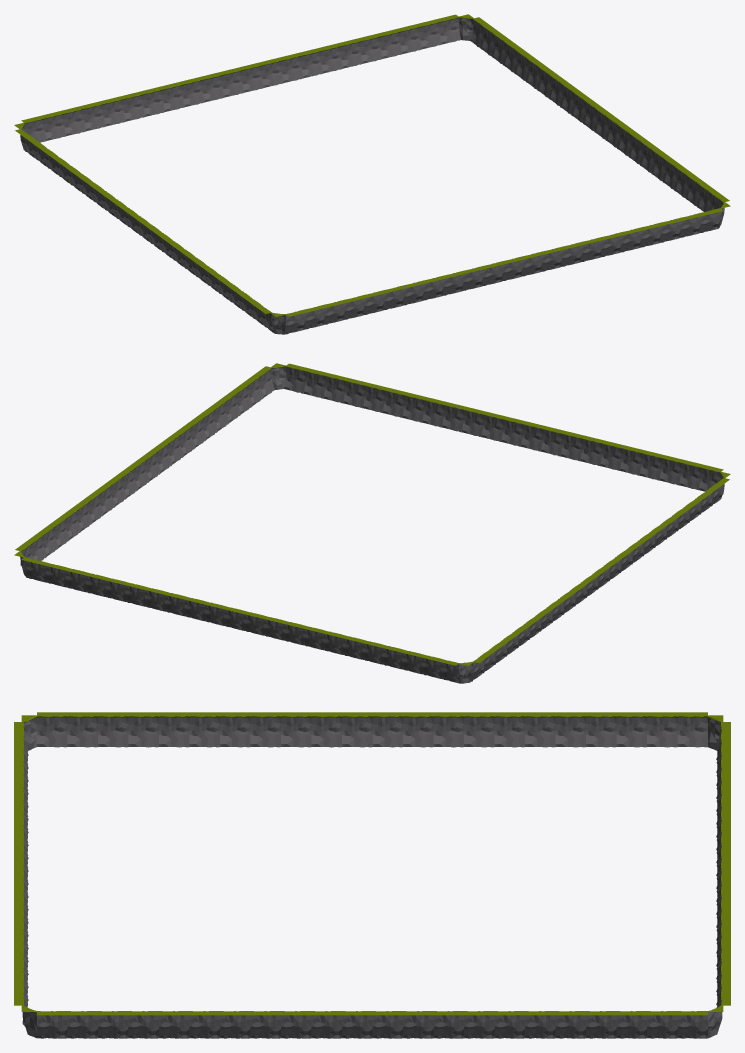
The model's file is Terrain+.fbx.
3 views of the same model, one above another, from view 1: azimuth 30°, elevation 25°; view 2: azimuth 150°, elevation 25°; view 3: azimuth 270°, elevation 25° (orthographic). The views are drawn at different scales.
Visible parts, largest first — view 1: Terrain+; view 2: Terrain+; view 3: Terrain+.
Part boxes in pixels (box(x1,y1,x2,y2)): Terrain+: box(14, 14, 730, 334); Terrain+: box(14, 363, 730, 683); Terrain+: box(14, 712, 730, 1038).
Bounding box in the file's own units: 9400 × 425 × 9400.
